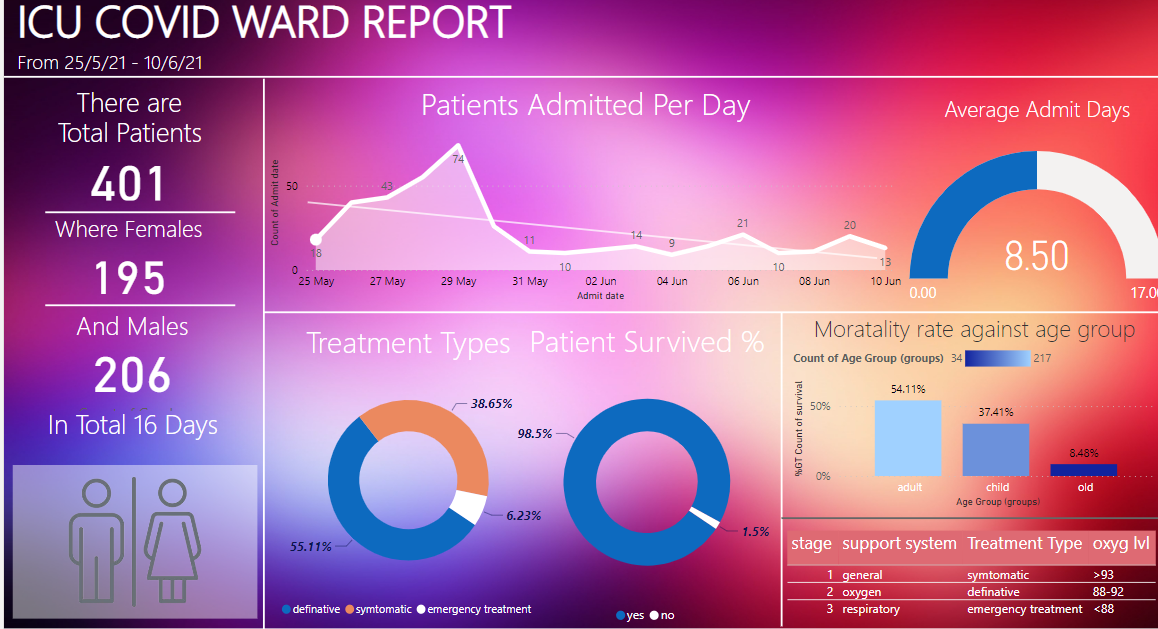

The page's visual inventory and layout, read from the dashboard file:
{"tool":"powerbi","page":{"name":"Page 1","canvas":[1280,720],"ordinal":0},"visuals":[{"type":"textbox","box":[9.6,0,940.8,140.1],"z":0},{"type":"shape","box":[0,89.3,1270.4,23.3],"z":1000},{"type":"shape","box":[271.9,103,27.5,605.7],"z":2000},{"type":"card","title":"Total Patients","fields":{"Values":["CountNonNull(Sheet1.patient ID)"]},"box":[47.1,140,182.9,101.4],"z":3000},{"type":"card","title":"There are","fields":{"Values":["CountNonNull(Sheet1.patient ID)"]},"box":[31.4,107.1,211.4,54.3],"z":4000},{"type":"shape","box":[45.7,241.4,208.6,15.7],"z":5000},{"type":"card","title":"Where Females","fields":{"Values":["CountNonNull(Sheet1.Gender)"]},"box":[41.4,250,191.4,97.1],"z":6000},{"type":"card","title":"And Males","fields":{"Values":["CountNonNull(Sheet1.Gender)"]},"box":[47.1,354.3,188.6,118.6],"z":7000},{"type":"shape","box":[45.7,325.7,208.6,52.9],"z":8000},{"type":"image","box":[9.6,527.4,269.2,168.9],"z":9000},{"type":"shape","box":[0,696.3,1270.4,23.3],"z":10000},{"type":"areaChart","title":"Patients Admitted Per Day","fields":{"Category":["Sheet1.Admit date"],"Y":["CountNonNull(Sheet1.Admit date)"]},"box":[287.1,107.1,704.3,245.7],"z":11000},{"type":"donutChart","title":"Patient Survived %","fields":{"Category":["Sheet1.survival"],"Y":["CountNonNull(Sheet1.survival)"]},"box":[541.1,366.7,331,344.7],"z":12000},{"type":"gauge","title":"Average Admit Days","fields":{"Y":["Avg(Sheet1.Total Admit Days)"]},"box":[990,120,290,265.7],"z":13000},{"type":"shape","box":[285.7,351.4,994.3,15.7],"z":14000},{"type":"donutChart","title":"Treatment Types","fields":{"Category":["Sheet1.Treatment Type"],"Y":["CountNonNull(Sheet1.Treatment Type)"]},"box":[287,368.1,314.5,336.5],"z":15000},{"type":"shape","box":[836.4,359.8,35.7,344.7],"z":16000},{"type":"tableEx","fields":{"Values":["Sheet2.stage","Sheet2.support system","Sheet1.Treatment Type","Sheet2.oxyg lvl"]},"box":[854.2,594.7,425.8,125],"z":17000},{"type":"card","title":"In Total 16 Days","fields":{"Values":["CountNonNull(Sheet1.patient ID)"]},"box":[35.7,461.4,211.4,54.3],"z":18000},{"type":"clusteredColumnChart","title":"Survival rate against age group","fields":{"Category":["Sheet1.Age Group (groups)"],"Y":["CountNonNull(Sheet1.survival)"]},"box":[854.2,359.8,425.8,226.6],"z":19000},{"type":"shape","box":[854.2,560.3,425.8,53.6],"z":20000}]}

Visuals, with their boxes on the page's 1280x720 design canvas (x1, y1, x2, y2). These are canvas units, not pixel positions in the 1158x629 screenshot, which may show the page scaled, cropped or inside an application window:
textbox: <box>10,0,950,140</box>
shape: <box>0,89,1270,113</box>
shape: <box>272,103,299,709</box>
"Total Patients" card: <box>47,140,230,241</box>
"There are" card: <box>31,107,243,161</box>
shape: <box>46,241,254,257</box>
"Where Females" card: <box>41,250,233,347</box>
"And Males" card: <box>47,354,236,473</box>
shape: <box>46,326,254,379</box>
image: <box>10,527,279,696</box>
shape: <box>0,696,1270,720</box>
"Patients Admitted Per Day" areaChart: <box>287,107,991,353</box>
"Patient Survived %" donutChart: <box>541,367,872,711</box>
"Average Admit Days" gauge: <box>990,120,1280,386</box>
shape: <box>286,351,1280,367</box>
"Treatment Types" donutChart: <box>287,368,602,705</box>
shape: <box>836,360,872,704</box>
tableEx - Sheet2.stage x Sheet2.support system: <box>854,595,1280,720</box>
"In Total 16 Days" card: <box>36,461,247,516</box>
"Survival rate against age group" clusteredColumnChart: <box>854,360,1280,586</box>
shape: <box>854,560,1280,614</box>
